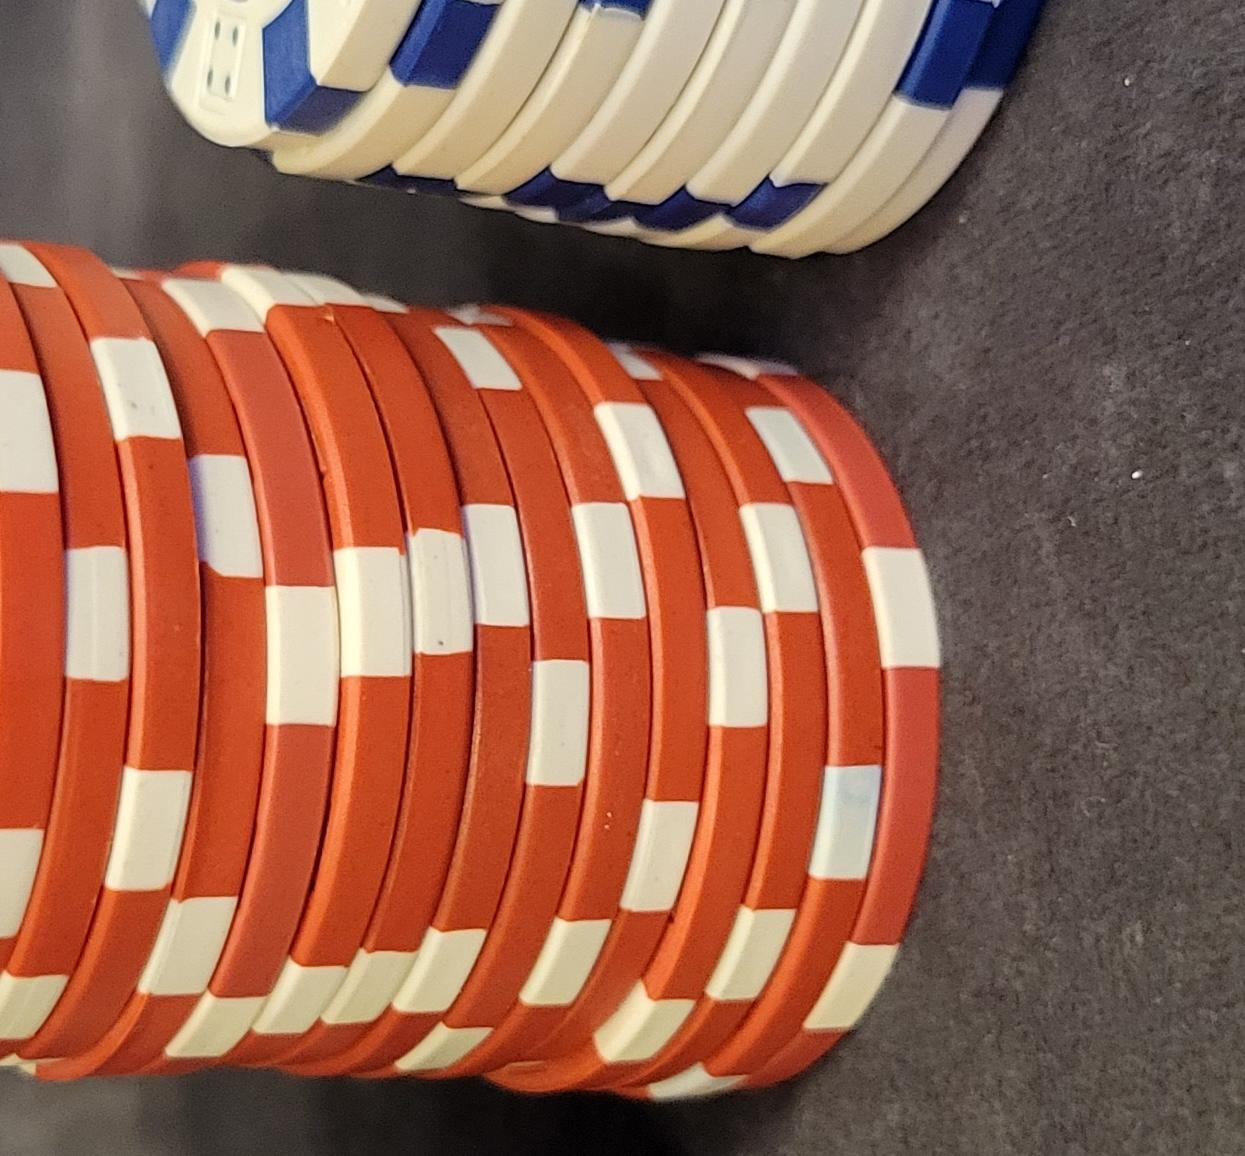Chip: (1, 260, 559, 1156)
